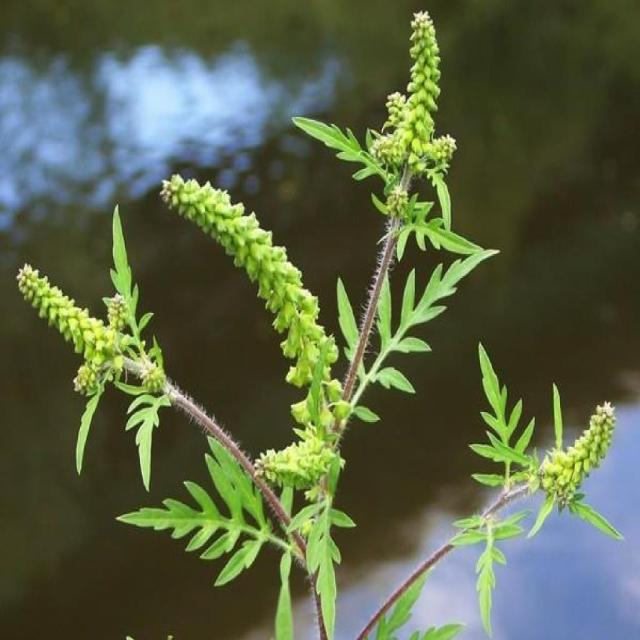ambrosia: (151, 159, 379, 483), (349, 0, 512, 227), (469, 358, 640, 530), (11, 234, 154, 429)
